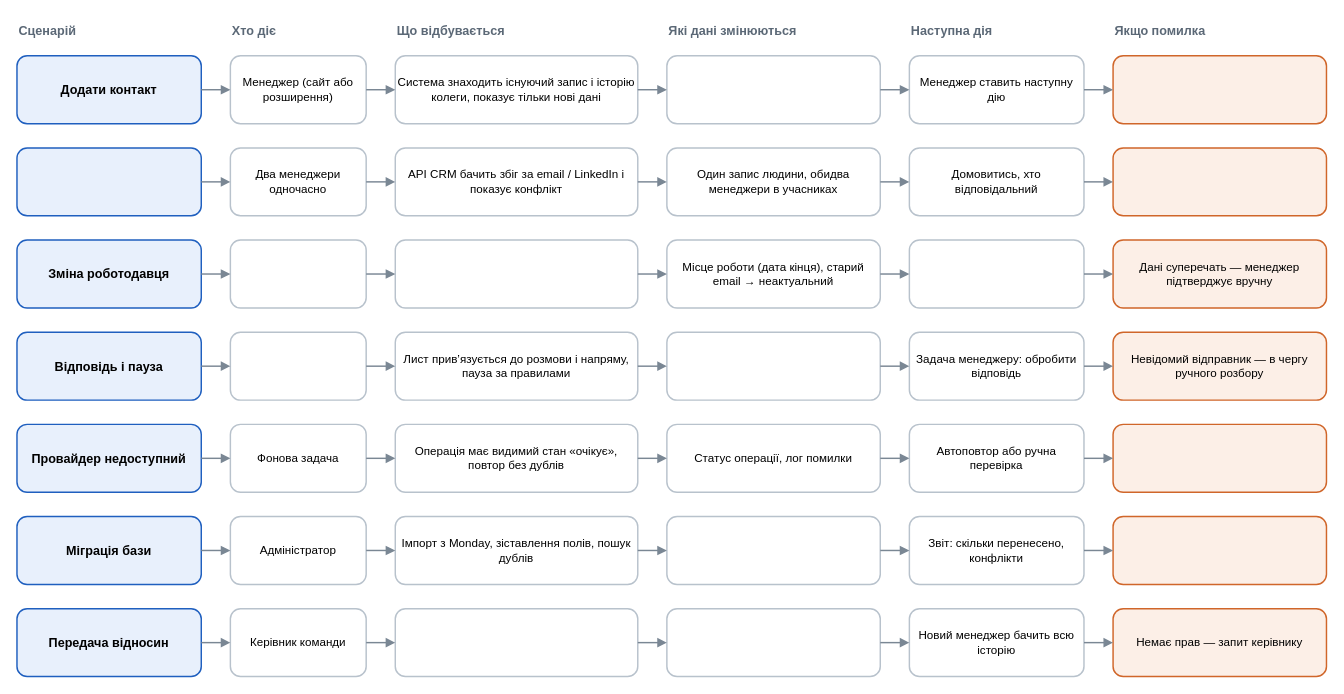
The diagram is 1344 pixels wide and 694 high, and some of its shapes have lost their labels. The centre of each missing label's shape, as x and y in pixels:
"Банки, люди, власники, зв’язки, історія" belongs at (773,550).
"Відносини і задачі переходять до іншого менеджера" belongs at (516,642).
"Відповідальний, задачі, журнал змін" belongs at (773,642).
"Двоє додають одну людину" belongs at (109,181).
"Задача: відновити контакт на новому місці" belongs at (996,273).
"Збіг неточний — в чергу на ручне злиття" belongs at (1219,181).
"Людина з банку" belongs at (297,365).
"Людина, контактні дані, джерело, журнал змін" belongs at (773,89).
"Невідомо, чи лист пішов — звірити зі станом провайдера" belongs at (1219,458).
"Поле не зіставилось — у звіт, не губиться" belongs at (1219,550).
"Провайдер не відповів — запис без email, статус «не перевірено»" belongs at (1219,89).
"Розширення або недоставка листа" belongs at (297,273).
"Старе місце роботи закривається, нове відкривається" belongs at (516,273).
"Історія, стан учасника кампанії, пауза з причиною" belongs at (773,365).
